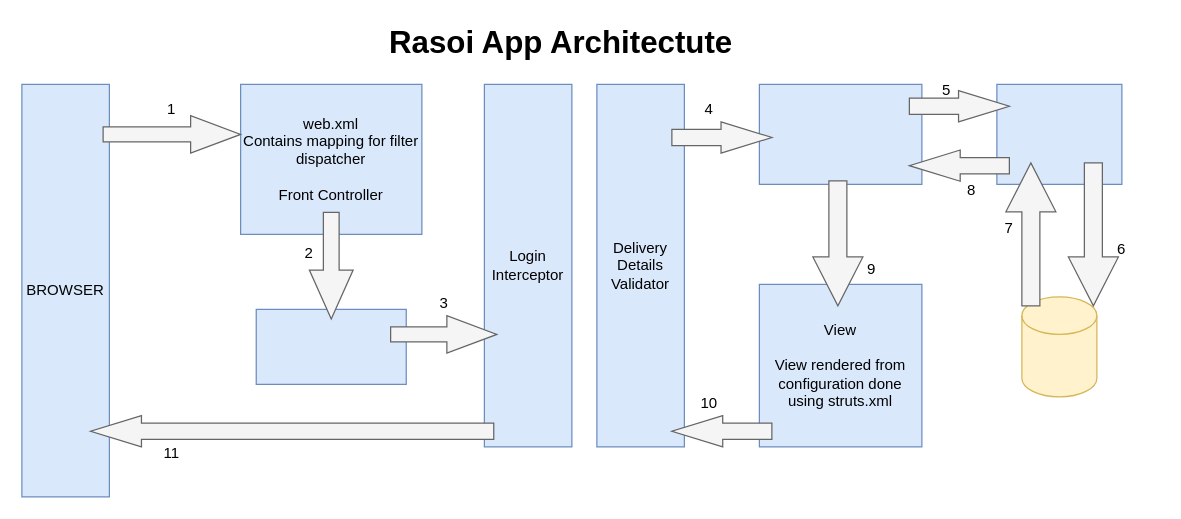
Some shapes in this 1181 by 519 pixel diagram are drawn without their labels. The box of each missing label's shape, as (x1, y1, x2, y2) in pixels:
Action Class Login Product Cart Checkout: (758, 83, 922, 184)
Business Logic: (996, 83, 1122, 184)
Database: (1021, 296, 1097, 397)
struts.xml Mapping for actions: (255, 308, 406, 384)
